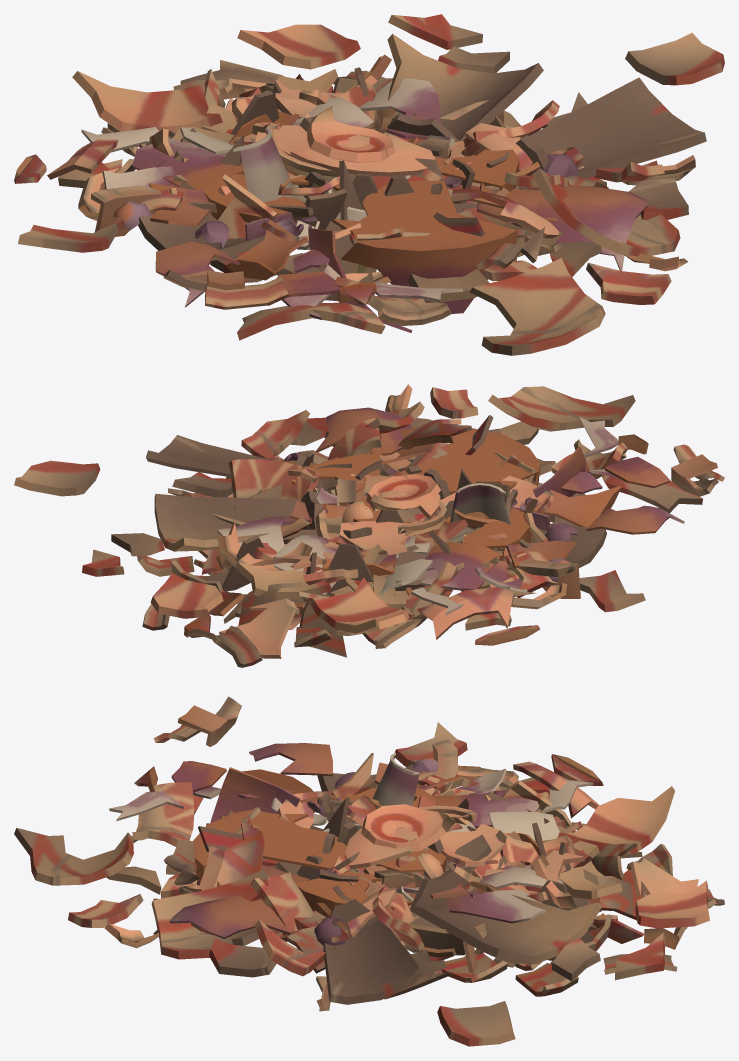
File: Destroyed_Tributs_v01.gltf
3 renders of one model, top to bottom at view 1: azimuth 30°, elevation 25°; view 2: azimuth 150°, elevation 25°; view 3: azimuth 270°, elevation 25°, orthographic. The views are drawn at different scales.
Visible parts, largest first — view 1: PR_Destroyed_Tributes_Jar02, PR_Destroyed_Tributes_Vase05, PR_Destroyed_Tributes_Jar01; view 2: PR_Destroyed_Tributes_Jar02, PR_Destroyed_Tributes_Jar01, PR_Destroyed_Tributes_Vase05; view 3: PR_Destroyed_Tributes_Jar02, PR_Destroyed_Tributes_Jar01, PR_Destroyed_Tributes_Vase05.
Part boxes in pixels (bbox=[...]): PR_Destroyed_Tributes_Jar02: bbox=[18, 14, 724, 355]; PR_Destroyed_Tributes_Vase05: bbox=[81, 78, 647, 332]; PR_Destroyed_Tributes_Jar01: bbox=[14, 60, 695, 309]; PR_Destroyed_Tributes_Jar02: bbox=[14, 384, 702, 633]; PR_Destroyed_Tributes_Jar01: bbox=[137, 415, 724, 667]; PR_Destroyed_Tributes_Vase05: bbox=[217, 407, 684, 615]; PR_Destroyed_Tributes_Jar02: bbox=[14, 722, 709, 1046]; PR_Destroyed_Tributes_Jar01: bbox=[134, 696, 724, 1011]; PR_Destroyed_Tributes_Vase05: bbox=[109, 743, 593, 945].
Bounding box in the file's own units: 2.66 × 0.4774 × 2.57.
Materials: 1 (1 with a texture image).
